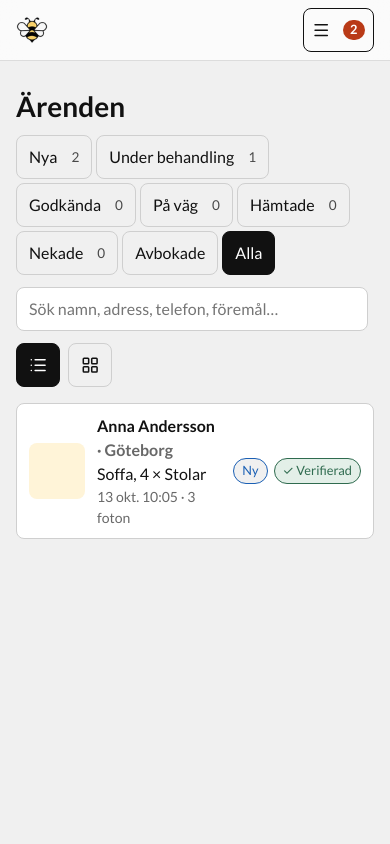
Test: auth › opens and closes the menu on narrow screens
Step 1. Click the button named "Meny" → (339, 30), box [303, 8, 374, 52]
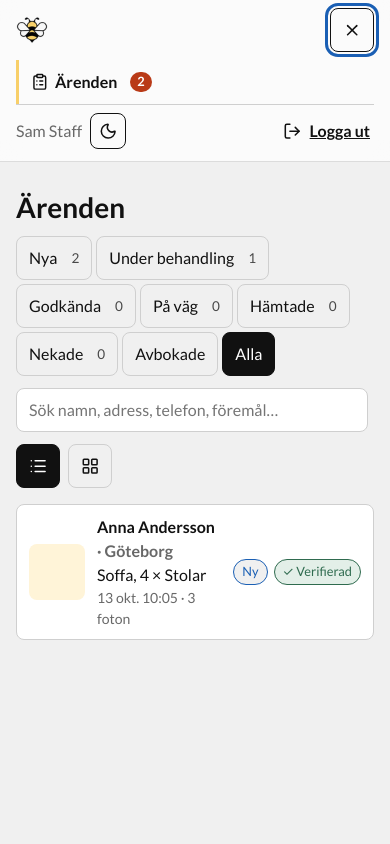
Expected: the button named "Meny" is expanded, [330, 8, 374, 52]
Step 2. Press Escape
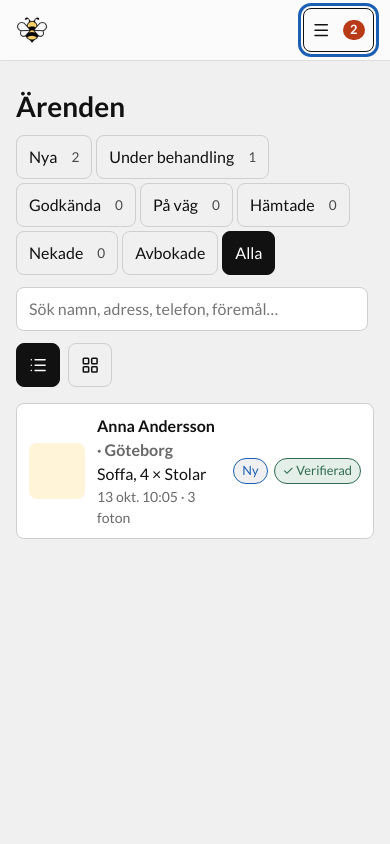
Expected: the button named "Meny" is collapsed
Note: Following a link in the menu closes it.
Step 3. Click the button named "Meny" → (339, 30), box [303, 8, 374, 52]
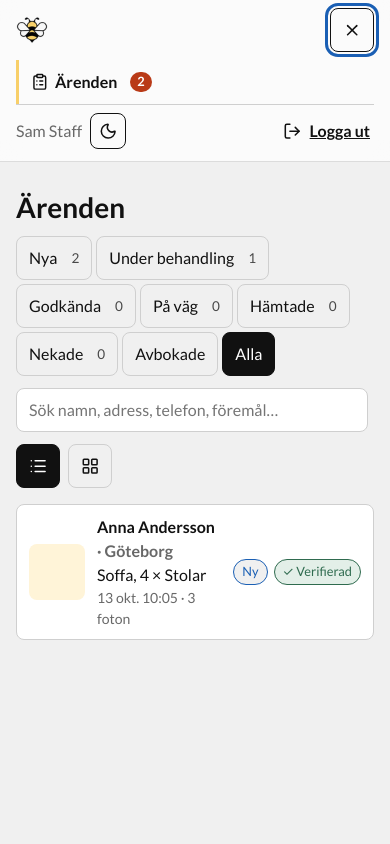
Step 4. Click the link "Ärenden 2" → (86, 82), box [16, 60, 374, 104]
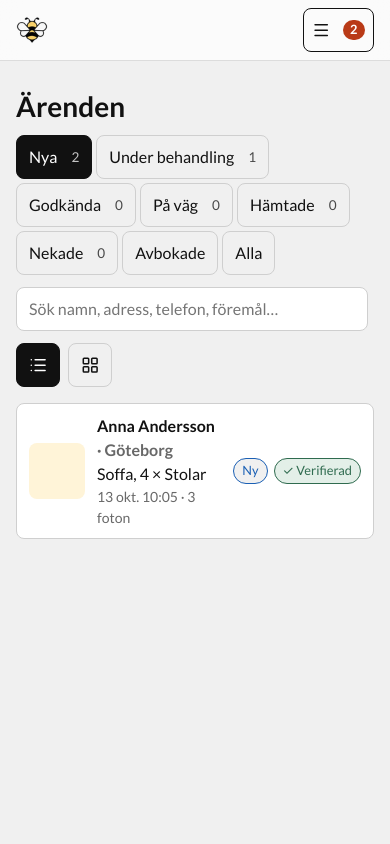
Expected: the button named "Meny" is collapsed, [303, 8, 374, 52]
